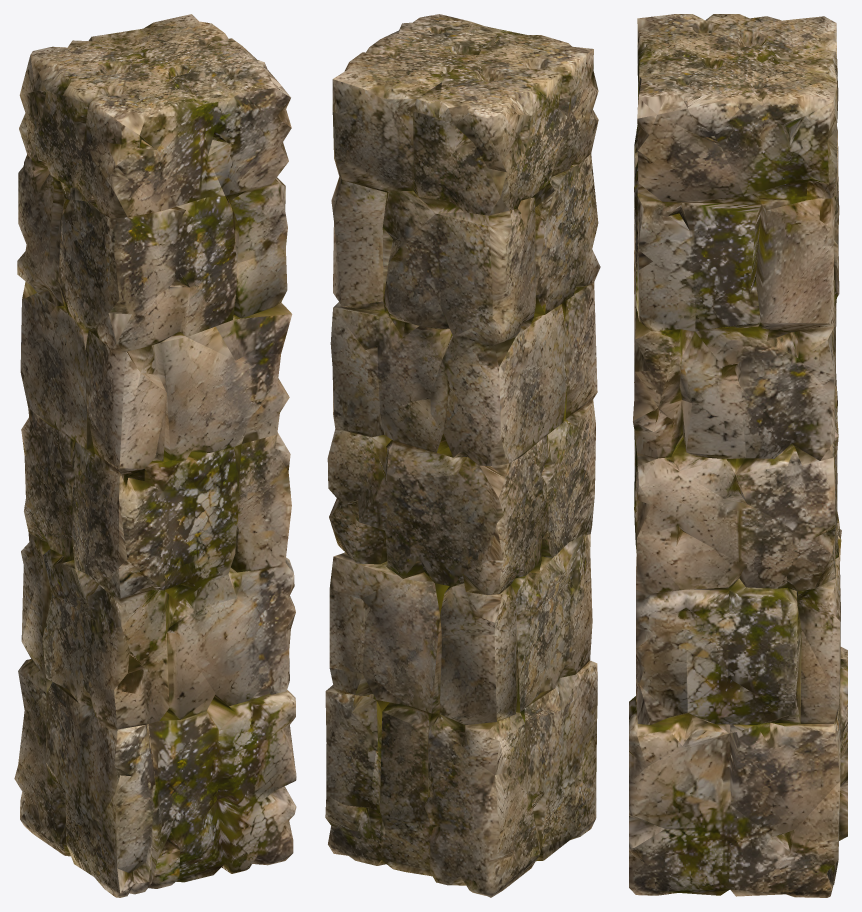
File: ARQ_ColumnaMaya_01_LOD1.fbx
The picture shows the model from 3 angles, left to right: view 1: azimuth 30°, elevation 25°; view 2: azimuth 150°, elevation 25°; view 3: azimuth 270°, elevation 25°; orthographic projection. The views are drawn at different scales.
Parts seen in each view (by area): view 1: ARQ_ColumnaMaya_01_Mesh000; view 2: ARQ_ColumnaMaya_01_Mesh000; view 3: ARQ_ColumnaMaya_01_Mesh000.
Part boxes in pixels (x1,y1,x2,y2): ARQ_ColumnaMaya_01_Mesh000: (14,14,296,897); ARQ_ColumnaMaya_01_Mesh000: (325,14,600,897); ARQ_ColumnaMaya_01_Mesh000: (629,14,847,897).
Size of the model in its own units: 0.7351 by 3 by 0.7456.
